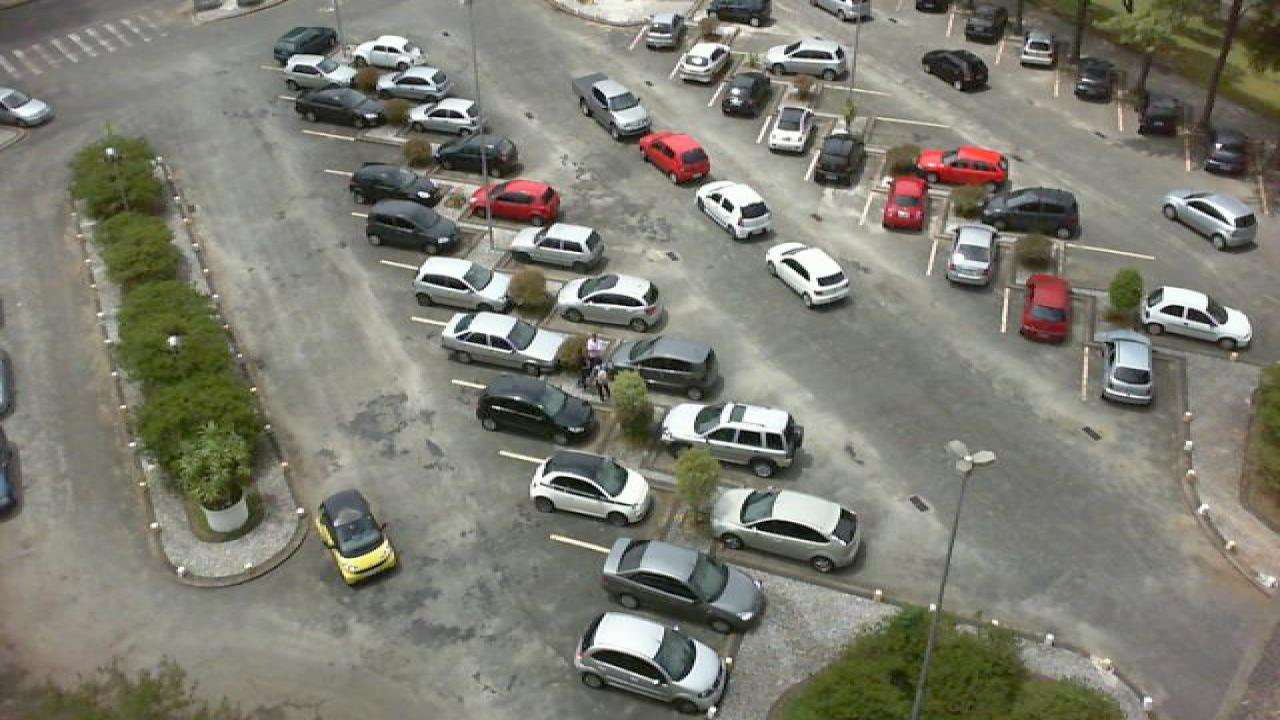Car: (600, 534, 768, 634), (572, 610, 728, 716), (708, 483, 868, 572), (658, 400, 808, 479), (528, 450, 654, 528), (474, 373, 600, 449), (438, 309, 572, 379), (1136, 285, 1254, 353), (622, 333, 724, 399), (556, 271, 668, 331), (412, 254, 514, 313), (980, 184, 1084, 240), (364, 199, 464, 254), (508, 222, 606, 272), (1096, 327, 1158, 406), (470, 177, 562, 227), (1014, 272, 1076, 346), (914, 145, 1010, 186), (348, 161, 436, 205), (944, 222, 1000, 289), (292, 87, 380, 127), (434, 134, 520, 173), (762, 36, 848, 75), (920, 47, 990, 91), (282, 53, 360, 91), (880, 173, 928, 232), (350, 34, 426, 71), (416, 98, 488, 137), (812, 132, 864, 186), (764, 103, 816, 156), (380, 66, 452, 103), (676, 42, 736, 86), (1212, 130, 1264, 179), (272, 25, 338, 63), (1134, 90, 1186, 138), (720, 71, 774, 117), (1068, 57, 1122, 102), (1016, 29, 1064, 69), (964, 7, 1012, 44), (706, 0, 770, 27), (640, 14, 684, 50), (810, 0, 872, 24), (946, 0, 988, 16)
